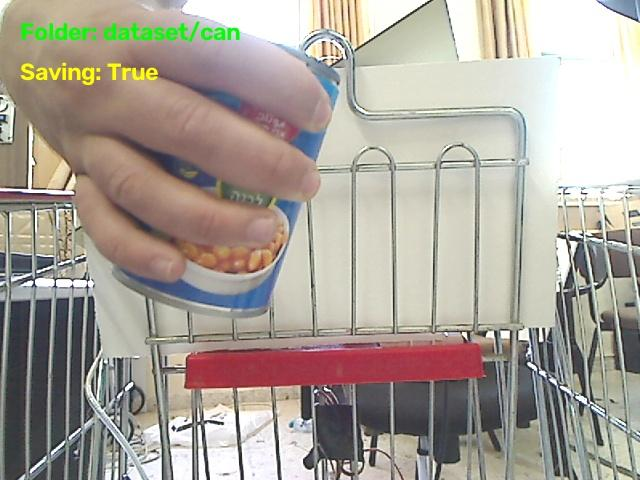can: (114, 156, 300, 317)
